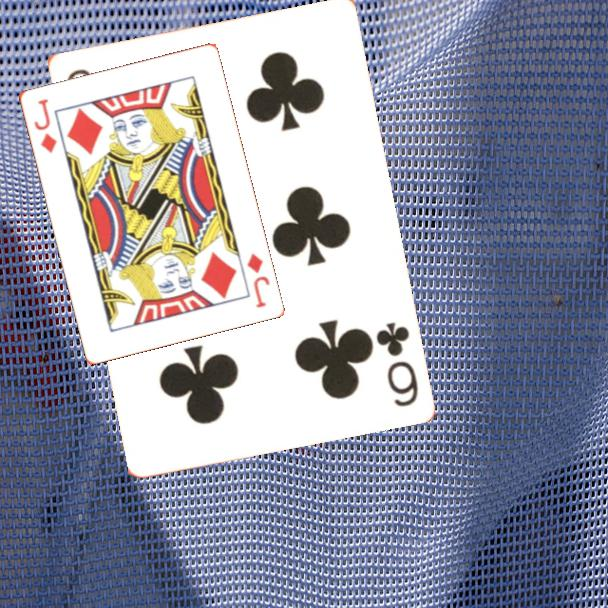c06: (372, 318, 421, 410)
d11: (30, 95, 59, 156), (243, 249, 272, 310)
